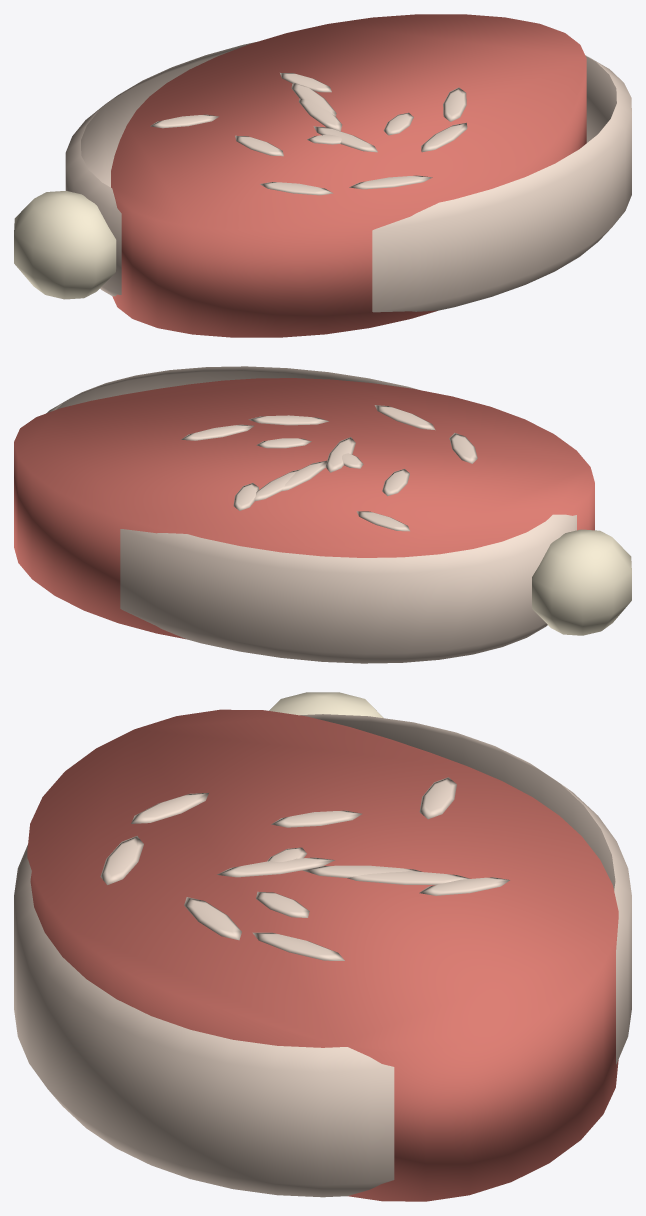
Rendered from hasenfleisch.glb.
3 renders of one model, top to bottom at view 1: azimuth 30°, elevation 25°; view 2: azimuth 150°, elevation 25°; view 3: azimuth 270°, elevation 25°, orthographic. The views are drawn at different scales.
Parts seen in each view (by area): view 1: Cylinder, fett, Sphere.012, Sphere.007, Sphere.003, Sphere.010, Sphere.004, Sphere.005, Sphere.006, Sphere.008, Sphere.011, Sphere.002 (+1 smaller); view 2: Cylinder, fett, Sphere.012, Sphere.007, Sphere.003, Sphere.010, Sphere.005, Sphere.004, Sphere.006, Sphere.008, Sphere.002, Sphere.011 (+2 smaller); view 3: Cylinder, fett, Sphere.012, Sphere.005, Sphere.007, Sphere.010, Sphere.002, Sphere.003, Sphere.004, Sphere.008, Sphere, Sphere.011 (+2 smaller).
Boxes of the visible parts, <box> form: Cylinder: <box>111,14,586,337</box>; fett: <box>65,42,631,312</box>; Sphere.012: <box>14,191,116,299</box>; Sphere.007: <box>349,175,432,189</box>; Sphere.003: <box>421,122,467,152</box>; Sphere.010: <box>443,87,466,121</box>; Sphere.004: <box>260,182,333,195</box>; Sphere.005: <box>313,126,377,152</box>; Sphere.006: <box>298,98,342,131</box>; Sphere.008: <box>150,114,219,128</box>; Sphere.011: <box>235,135,283,156</box>; Sphere.002: <box>291,83,336,116</box>; Cylinder: <box>14,378,594,639</box>; fett: <box>46,366,576,663</box>; Sphere.012: <box>532,529,631,635</box>; Sphere.007: <box>374,405,435,430</box>; Sphere.003: <box>248,415,328,425</box>; Sphere.010: <box>181,424,254,440</box>; Sphere.005: <box>326,437,355,472</box>; Sphere.004: <box>449,433,477,463</box>; Sphere.006: <box>281,460,326,491</box>; Sphere.008: <box>356,511,409,531</box>; Sphere.002: <box>254,469,299,501</box>; Sphere.011: <box>382,469,409,496</box>; Cylinder: <box>27,709,618,1201</box>; fett: <box>14,714,631,1197</box>; Sphere.012: <box>269,692,383,718</box>; Sphere.005: <box>217,857,334,877</box>; Sphere.007: <box>100,836,143,884</box>; Sphere.010: <box>252,932,344,960</box>; Sphere.002: <box>347,871,470,884</box>; Sphere.003: <box>184,897,241,940</box>; Sphere.004: <box>131,793,208,823</box>; Sphere.008: <box>419,777,456,819</box>; Sphere: <box>419,877,509,895</box>; Sphere.011: <box>271,810,362,827</box>.
Bounding box in the file's own units: 0.1593 × 0.0286 × 0.105.
